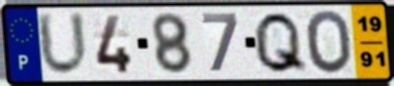4: (94, 13, 134, 76)
7: (199, 11, 243, 75)
8: (150, 10, 195, 77)
O: (303, 8, 355, 76)
Q: (252, 9, 310, 75)
U: (35, 10, 92, 79)
